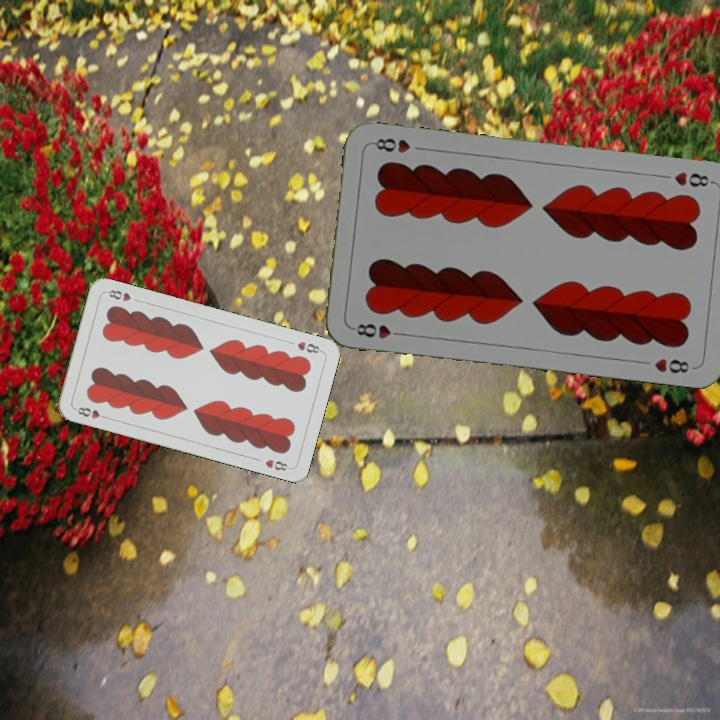H8: (348, 319, 407, 341), (670, 168, 716, 190), (71, 403, 111, 422), (293, 337, 325, 356)
